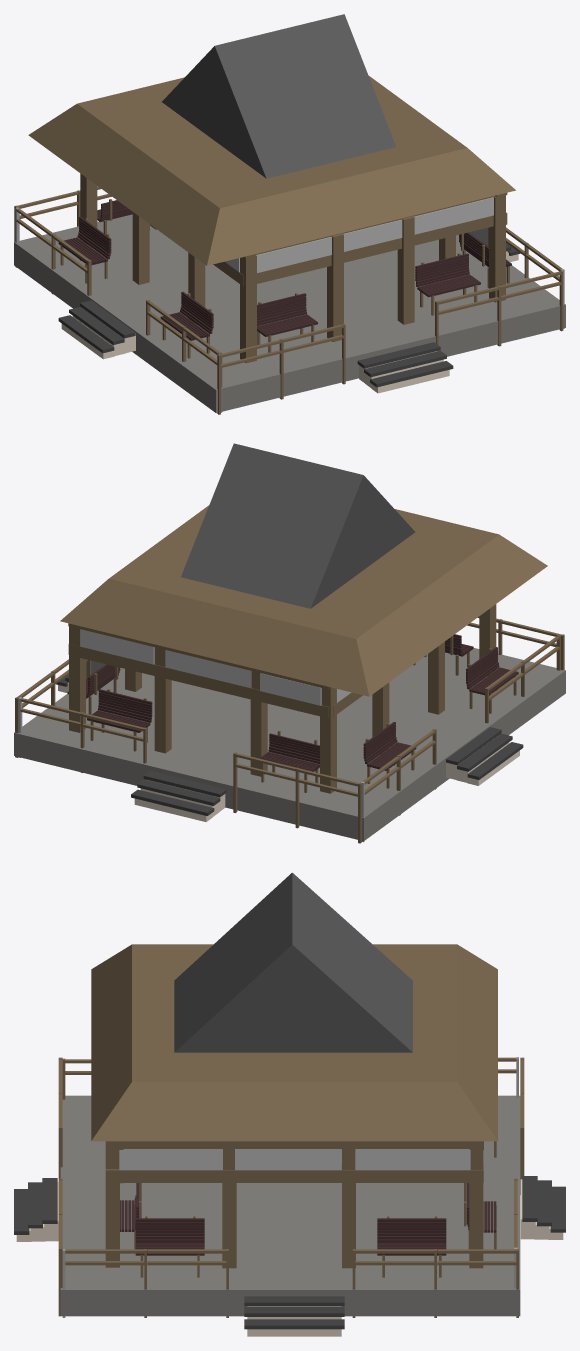
The model's file is main goal.fbx.
3 renders of one model, top to bottom at view 1: azimuth 30°, elevation 25°; view 2: azimuth 150°, elevation 25°; view 3: azimuth 270°, elevation 25°, orthographic. The views are drawn at different scales.
Visible parts, largest first — view 1: pCube215, pCube94, pCube216, pCube209, pCube200, pCube398, pCube396, pCube329, pCube328, pCube397, pCube400, pCube327 (+9 smaller); view 2: pCube215, pCube94, pCube216, pCube214, pCube325, pCube403, pCube401, pCube324, pCube404, pCube402, pCube326, pCube399 (+10 smaller); view 3: pCube215, pCube94, pCube216, pCube207, pCube208, pCube323, pCube322, pCube321, pCube397, pCube406, pCube404, pCube405 (+10 smaller).
Boxes of the visible parts, x1=… form: pCube215: x1=28, y1=76, x2=515, y2=265; pCube94: x1=14, y1=214, x2=565, y2=412; pCube216: x1=162, y1=14, x2=396, y2=178; pCube209: x1=257, y1=215, x2=493, y2=283; pCube200: x1=397, y1=216, x2=414, y2=324; pCube398: x1=240, y1=256, x2=256, y2=363; pCube396: x1=327, y1=233, x2=343, y2=341; pCube329: x1=414, y1=197, x2=493, y2=234; pCube328: x1=256, y1=237, x2=331, y2=272; pCube397: x1=489, y1=195, x2=505, y2=302; pCube400: x1=132, y1=212, x2=149, y2=284; pCube327: x1=343, y1=219, x2=402, y2=251; pCube215: x1=60, y1=505, x2=547, y2=696; pCube94: x1=14, y1=648, x2=565, y2=841; pCube216: x1=181, y1=443, x2=415, y2=608; pCube214: x1=68, y1=644, x2=328, y2=718; pCube325: x1=165, y1=650, x2=251, y2=687; pCube403: x1=154, y1=647, x2=171, y2=753; pCube401: x1=320, y1=688, x2=336, y2=793; pCube324: x1=80, y1=629, x2=154, y2=664; pCube404: x1=69, y1=626, x2=85, y2=732; pCube402: x1=250, y1=671, x2=267, y2=776; pCube326: x1=260, y1=673, x2=321, y2=705; pCube399: x1=428, y1=641, x2=444, y2=714; pCube215: x1=91, y1=944, x2=497, y2=1141; pCube94: x1=60, y1=1095, x2=520, y2=1316; pCube216: x1=174, y1=872, x2=412, y2=1052; pCube207: x1=105, y1=1164, x2=483, y2=1182; pCube208: x1=105, y1=1141, x2=469, y2=1149; pCube323: x1=355, y1=1149, x2=470, y2=1170; pCube322: x1=235, y1=1149, x2=341, y2=1170; pCube321: x1=119, y1=1149, x2=222, y2=1170; pCube397: x1=105, y1=1149, x2=119, y2=1267; pCube406: x1=222, y1=1149, x2=236, y2=1268; pCube404: x1=469, y1=1150, x2=483, y2=1268; pCube405: x1=342, y1=1149, x2=355, y2=1268.
Size of the model in its own units: 144 by 88.34 by 144.
